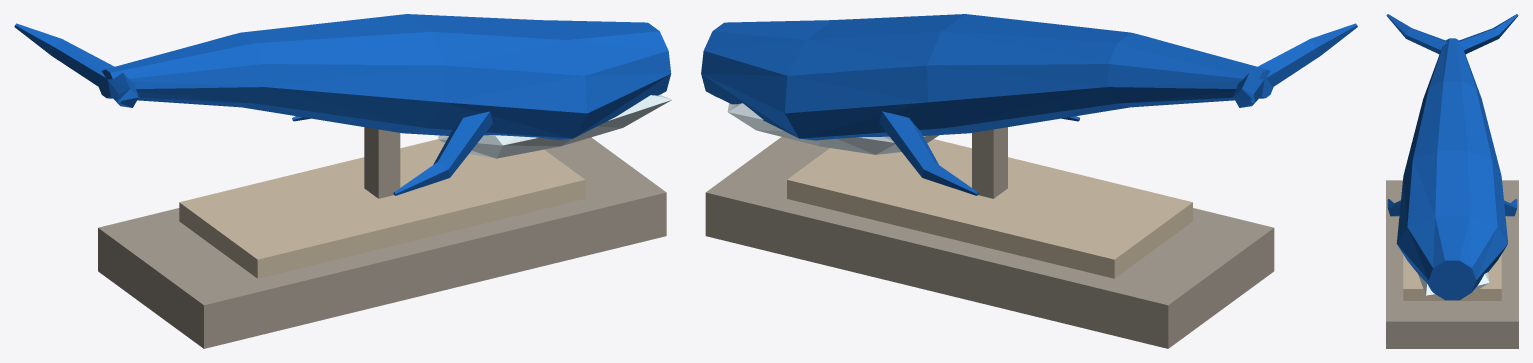
The model's file is aquarium_whale_sculpture.fbx.
3 views of the same model, side by side, from view 1: azimuth 30°, elevation 25°; view 2: azimuth 150°, elevation 25°; view 3: azimuth 270°, elevation 25° (orthographic). The views are drawn at different scales.
Visible parts, largest first — view 1: aquarium_whale_sculpture; view 2: aquarium_whale_sculpture; view 3: aquarium_whale_sculpture.
Boxes of the visible parts, x1=… form: aquarium_whale_sculpture: x1=14, y1=14, x2=671, y2=348; aquarium_whale_sculpture: x1=701, y1=14, x2=1357, y2=348; aquarium_whale_sculpture: x1=1386, y1=14, x2=1518, y2=348.
Bounding box in the file's own units: 8 × 3.5 × 2.5.
